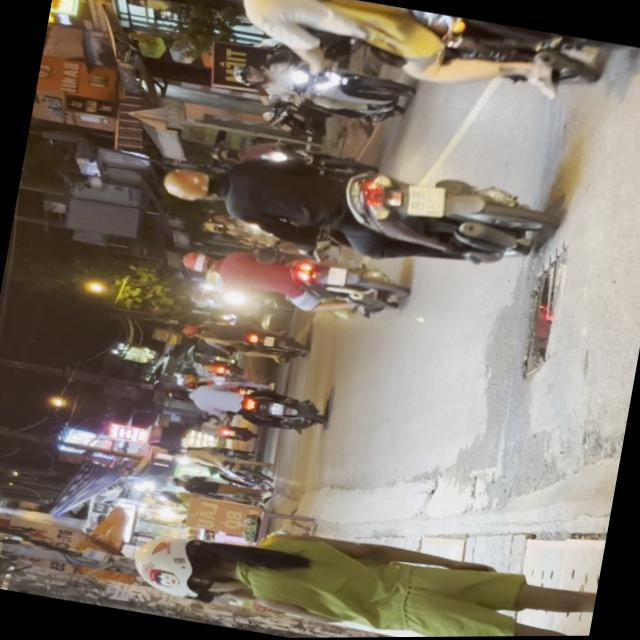helmet: (158, 159, 224, 204), (178, 247, 218, 273), (228, 61, 265, 86)
licenseplate: (152, 121, 556, 290), (154, 0, 640, 121), (173, 229, 409, 327), (222, 44, 416, 131)
nohelmet: (404, 181, 446, 219), (325, 264, 346, 285)
